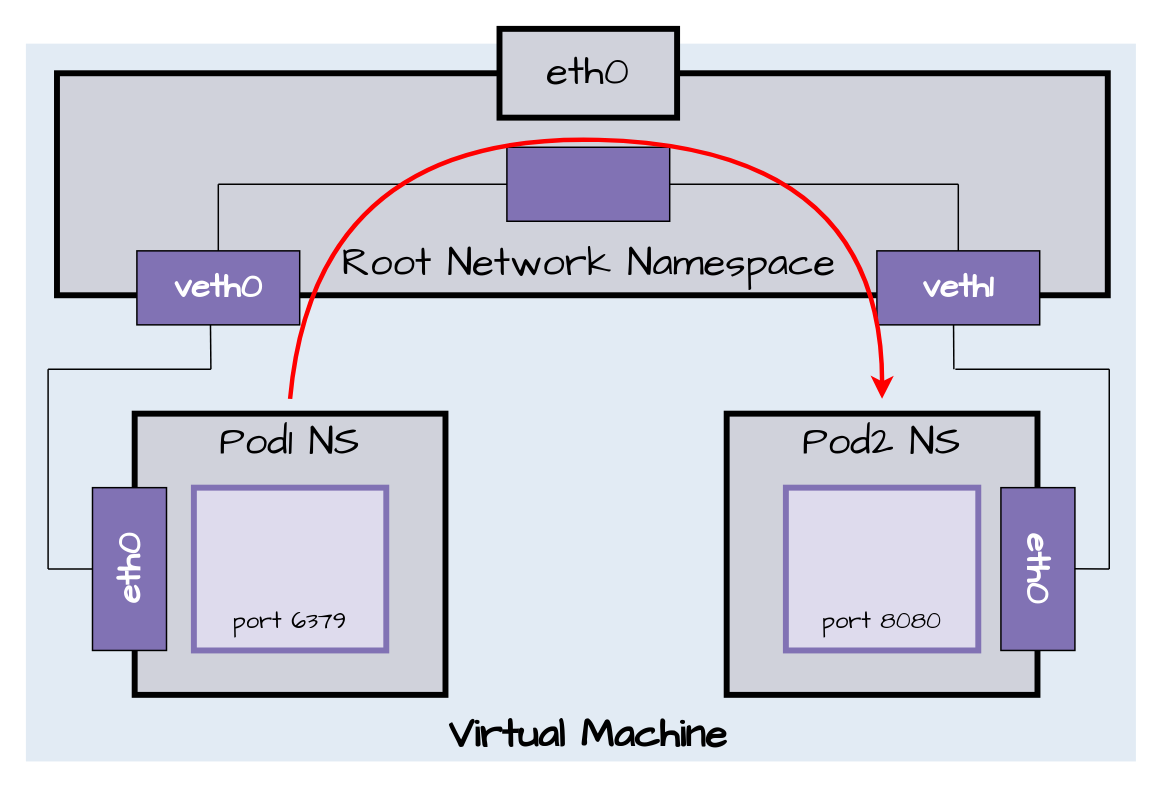
This 1160x801 diagram has some shape labels left out. Each missing label, with the box of its shape:
cbr0: (505, 146, 670, 221)
Redis: (190, 484, 388, 653)
Server: (782, 484, 980, 653)
